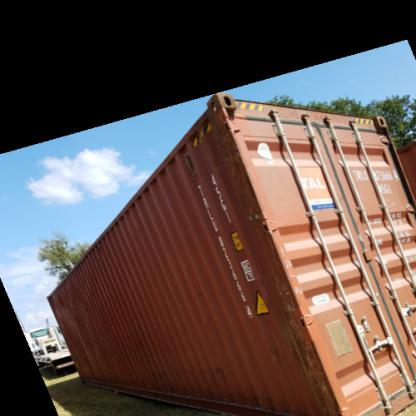Damage: (278, 282, 338, 416), (211, 106, 270, 236), (144, 359, 229, 389), (66, 271, 88, 319), (193, 283, 208, 304)
